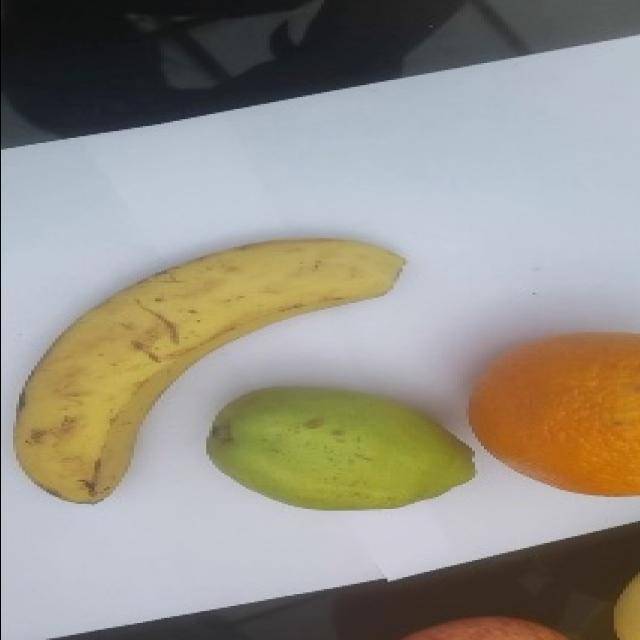Apple: (401, 615, 575, 640)
Banana: (14, 237, 405, 507)
Orange: (468, 328, 640, 501)
